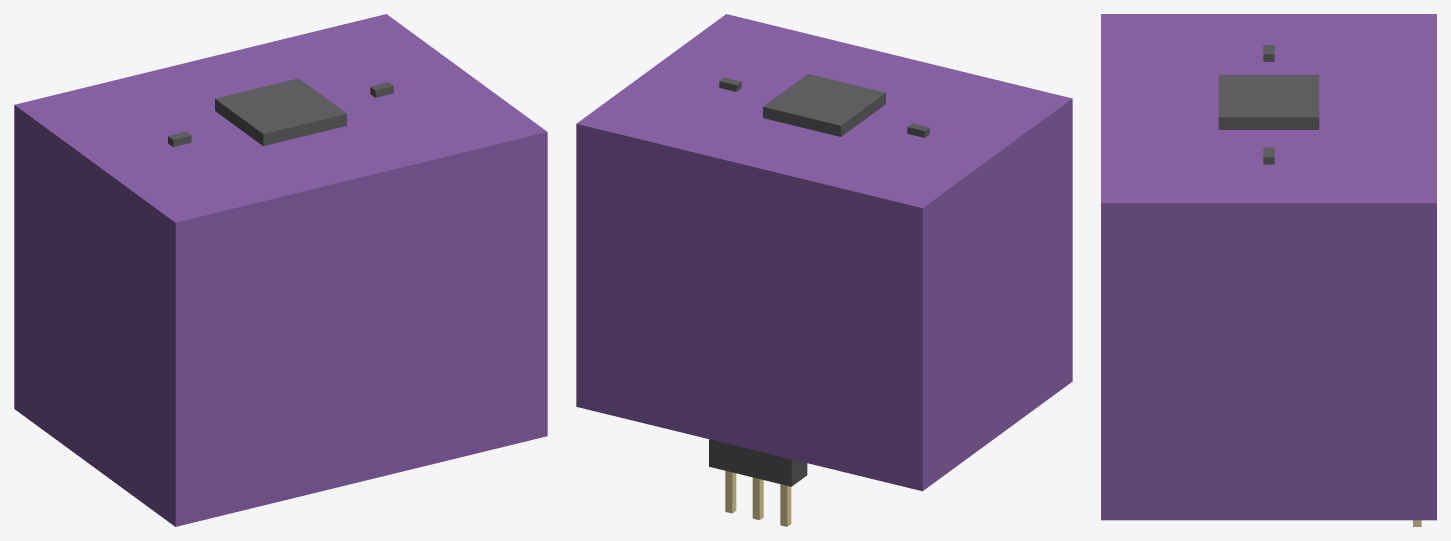
Rendered from hcsr501.glb.
3 renders of one model, left to right at view 1: azimuth 30°, elevation 25°; view 2: azimuth 150°, elevation 25°; view 3: azimuth 270°, elevation 25°, orthographic. The views are drawn at different scales.
Visible parts, largest first — view 1: hcsr501-pcb, hcsr501-ic; view 2: hcsr501-pcb, hcsr501-ic, hcsr501-plastic, hcsr501-pins; view 3: hcsr501-pcb, hcsr501-ic.
Part boxes in pixels (<box>): hcsr501-pcb: <box>14,14,547,526</box>; hcsr501-ic: <box>168,78,393,147</box>; hcsr501-pcb: <box>576,14,1072,491</box>; hcsr501-ic: <box>719,74,929,137</box>; hcsr501-plastic: <box>709,439,807,486</box>; hcsr501-pins: <box>725,470,791,526</box>; hcsr501-pcb: <box>1101,14,1436,520</box>; hcsr501-ic: <box>1218,45,1319,164</box>.
Bounding box in the file's own units: 0.032 × 0.0327 × 0.024.
